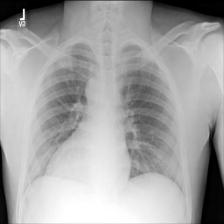normal: (24, 40, 188, 198)
